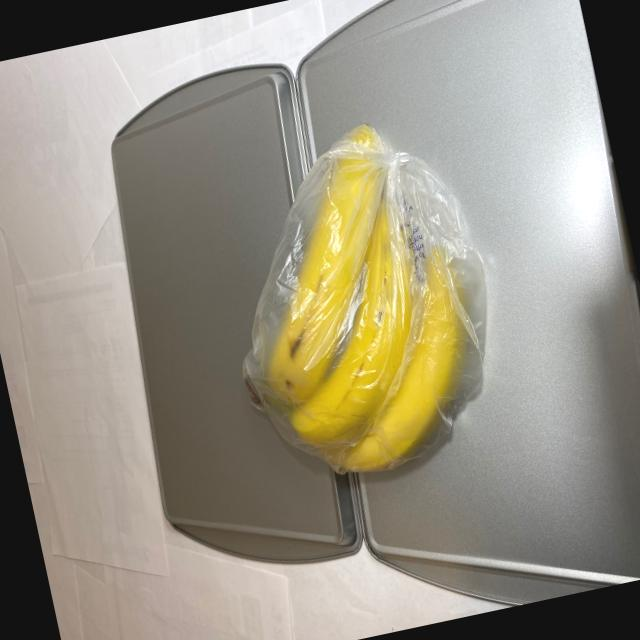banana: (195, 99, 512, 501)
